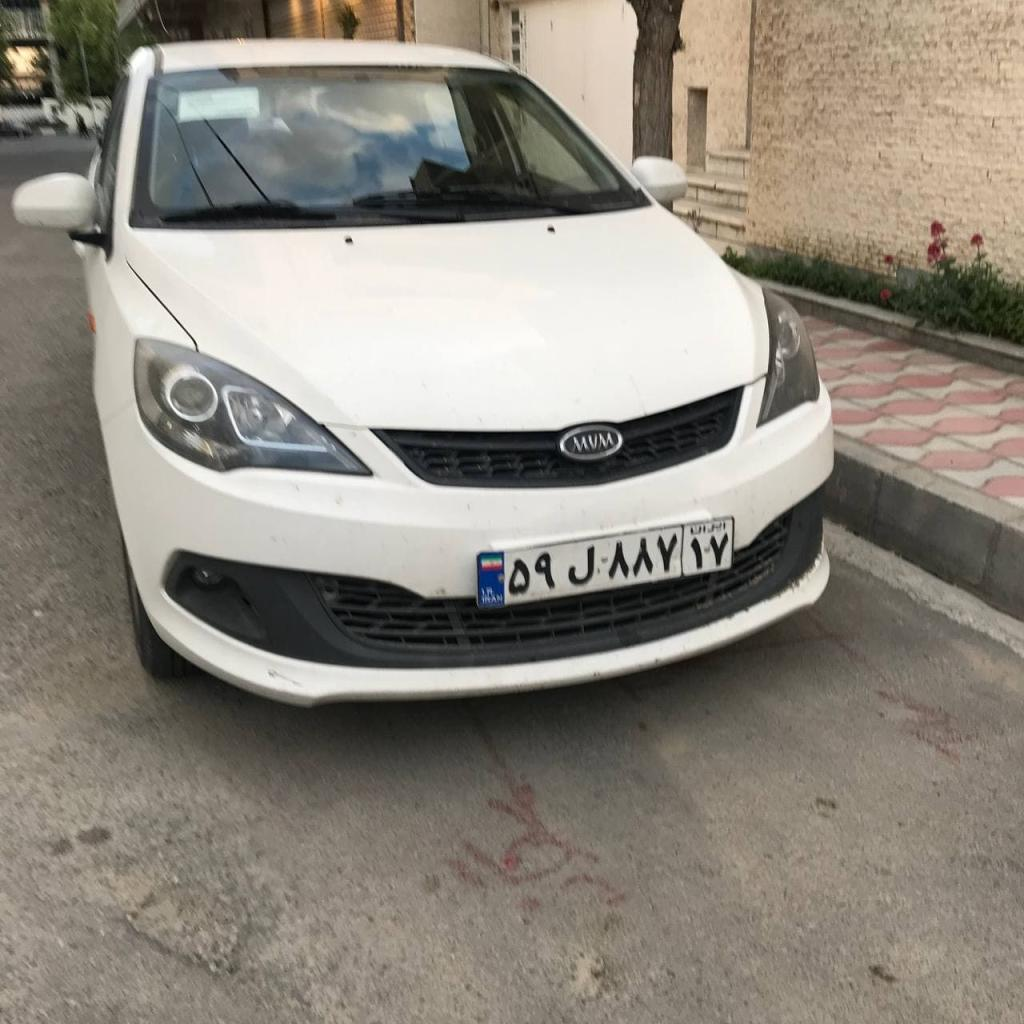Plates: (478, 516, 732, 609)
